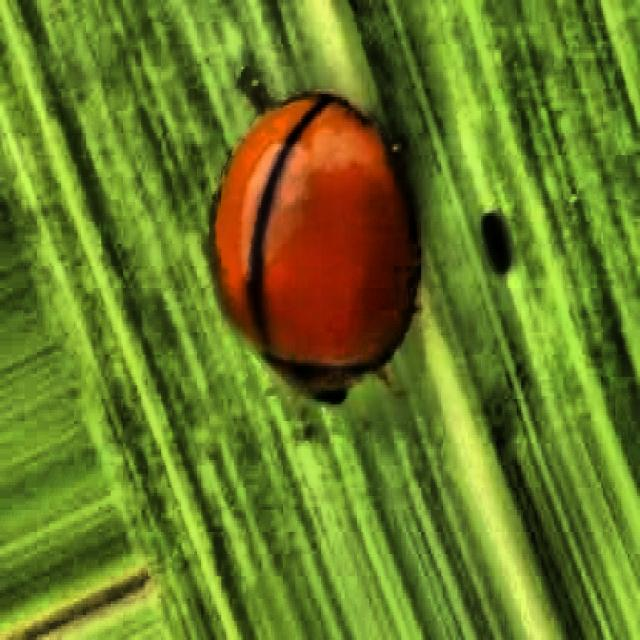Ladybug: (128, 12, 480, 474)
